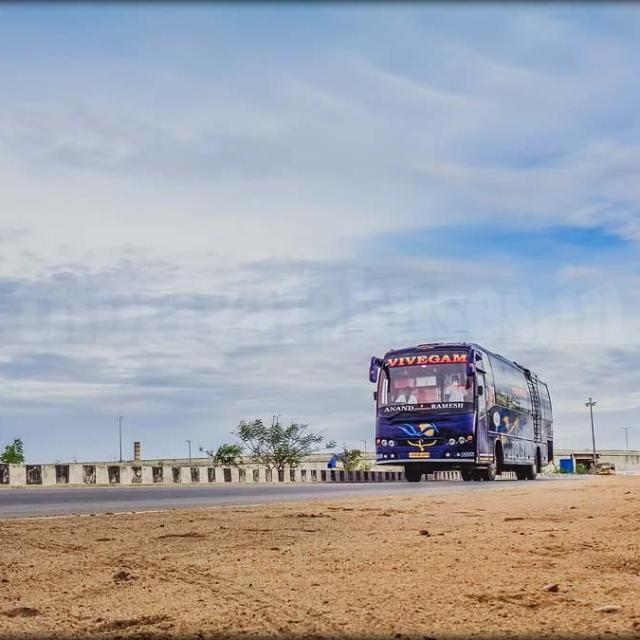Bus: (368, 339, 558, 481)
